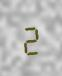two: (19, 21, 41, 55)
